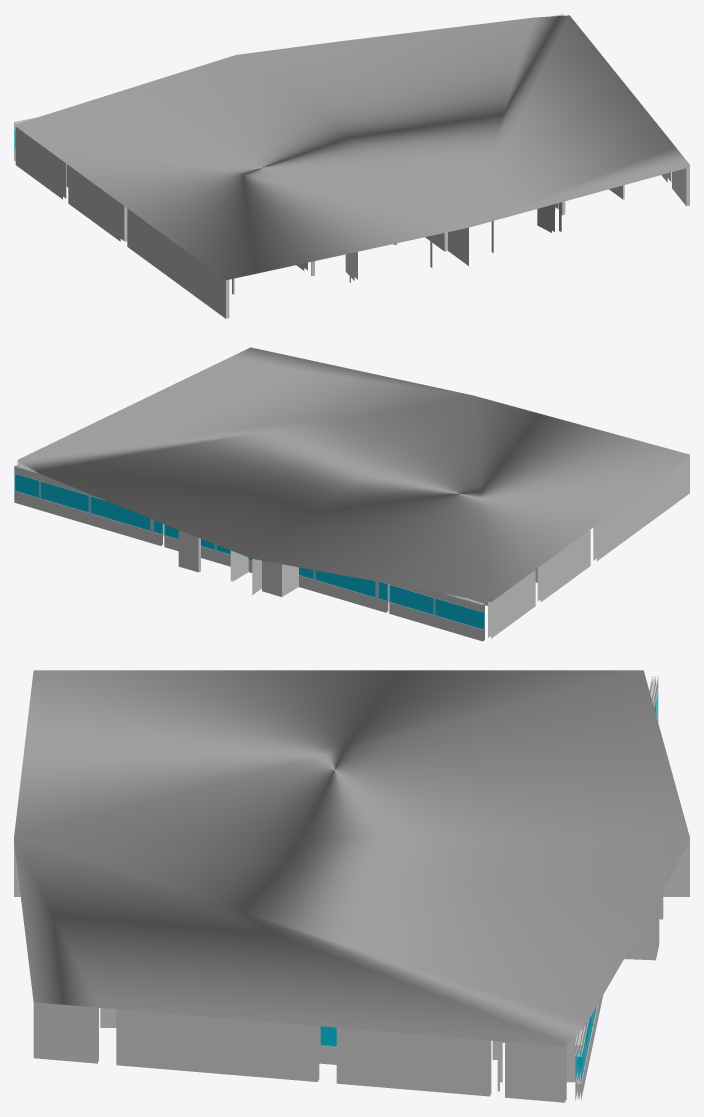
The model's file is d8df19f7-c83b-46fa-86c5-93a849b8cedc.glb.
The picture shows the model from 3 angles, top to bottom: view 1: azimuth 30°, elevation 25°; view 2: azimuth 150°, elevation 25°; view 3: azimuth 270°, elevation 25°; orthographic projection. The views are drawn at different scales.
Visible parts, largest first — view 1: roof, walls; view 2: roof, walls, windows; view 3: roof, walls, windows.
Part boxes in pixels (<box>): roof: <box>15,15,689,280</box>; walls: <box>14,14,689,318</box>; roof: <box>17,347,689,602</box>; walls: <box>14,457,689,641</box>; windows: <box>14,473,537,629</box>; roof: <box>14,670,689,1046</box>; walls: <box>14,676,689,1102</box>; windows: <box>320,690,658,1082</box>.
Size of what is drawn, in the model's own units: 35.74 by 2.65 by 27.35.
